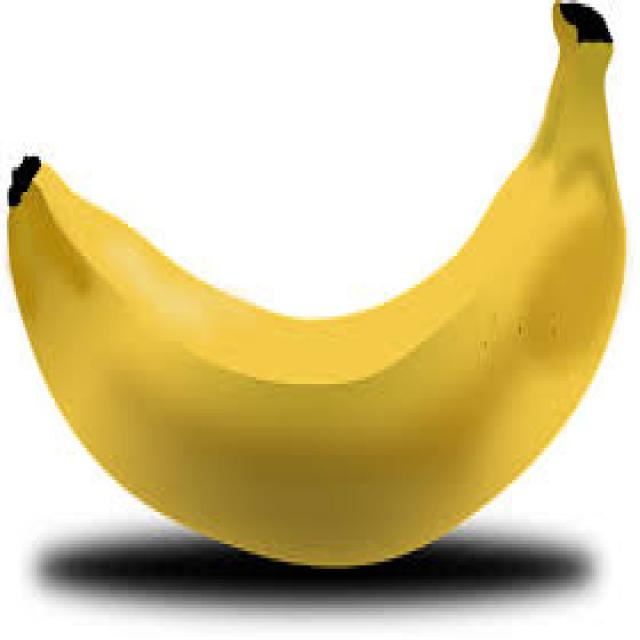banana: (5, 0, 626, 569)
